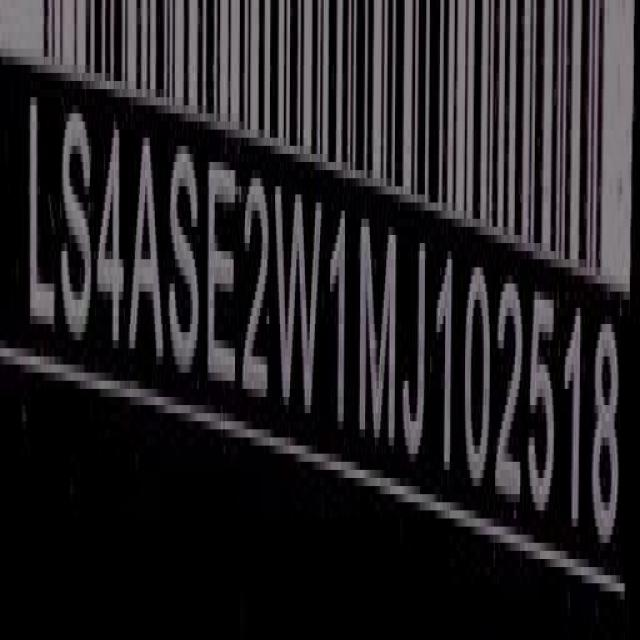0: (464, 245, 492, 499)
1: (328, 180, 350, 447), (434, 228, 456, 488), (563, 284, 581, 546)
2: (243, 160, 274, 421), (497, 262, 526, 518)
4: (98, 96, 130, 364)
5: (529, 268, 556, 528)
8: (594, 306, 623, 554)
A: (131, 117, 167, 374)
E: (206, 144, 240, 405)
J: (400, 225, 429, 471)
L: (24, 74, 57, 350)
M: (356, 195, 398, 467)
S: (58, 91, 93, 356), (170, 136, 206, 384)
W: (274, 162, 326, 450)
